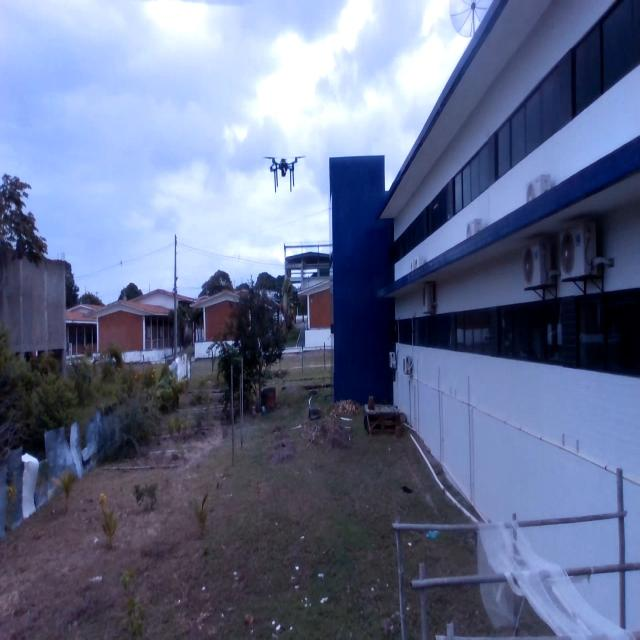-uav-: (264, 145, 308, 199)
